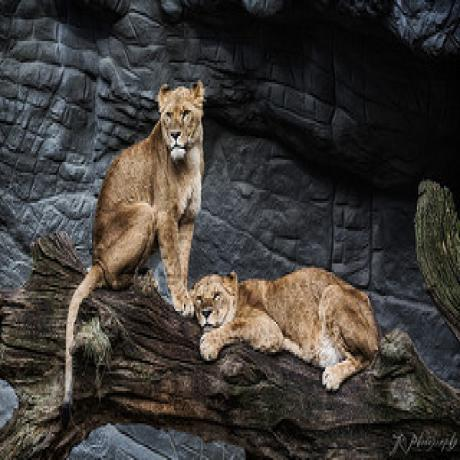Lion: (91, 69, 212, 318), (191, 253, 390, 393)
